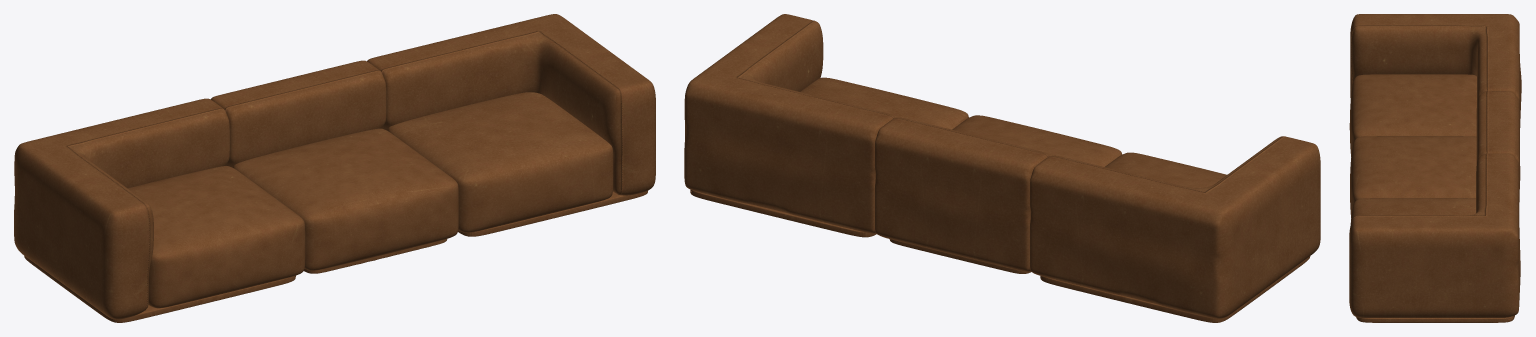
Rendered from kenzy4.glb.
3 renders of one model, left to right at view 1: azimuth 30°, elevation 25°; view 2: azimuth 150°, elevation 25°; view 3: azimuth 270°, elevation 25°, orthographic. The views are drawn at different scales.
Visible parts, largest first — view 1: Cube, Cube.002, Sofa.004, Sofa.002, Sofa.005, Cube.003; view 2: Cube, Cube.002, Cube.003, Sofa.004, Sofa.002, Sofa.005; view 3: Cube.002, Cube, Sofa.005, Sofa.002, Sofa.004, Cube.003.
Boxes of the visible parts, x1,y1,x2,y2 form: Cube: (14, 98, 229, 319); Cube.002: (367, 14, 655, 195); Sofa.004: (387, 92, 648, 236); Sofa.002: (233, 128, 458, 273); Sofa.005: (24, 166, 305, 322); Cube.003: (210, 60, 386, 167); Cube: (1030, 136, 1320, 318); Cube.002: (684, 14, 894, 233); Cube.003: (875, 117, 1049, 271); Sofa.004: (690, 77, 968, 237); Sofa.002: (889, 115, 1122, 273); Sofa.005: (1040, 152, 1310, 322); Cube.002: (1349, 153, 1520, 317); Cube: (1350, 14, 1521, 152); Sofa.005: (1349, 74, 1476, 157); Sofa.002: (1350, 136, 1476, 217); Sofa.004: (1350, 198, 1514, 322); Cube.003: (1476, 91, 1520, 214).
Bounding box in the file's own units: 10.23 × 2.08 × 3.37.
2 materials, 2 textured.
